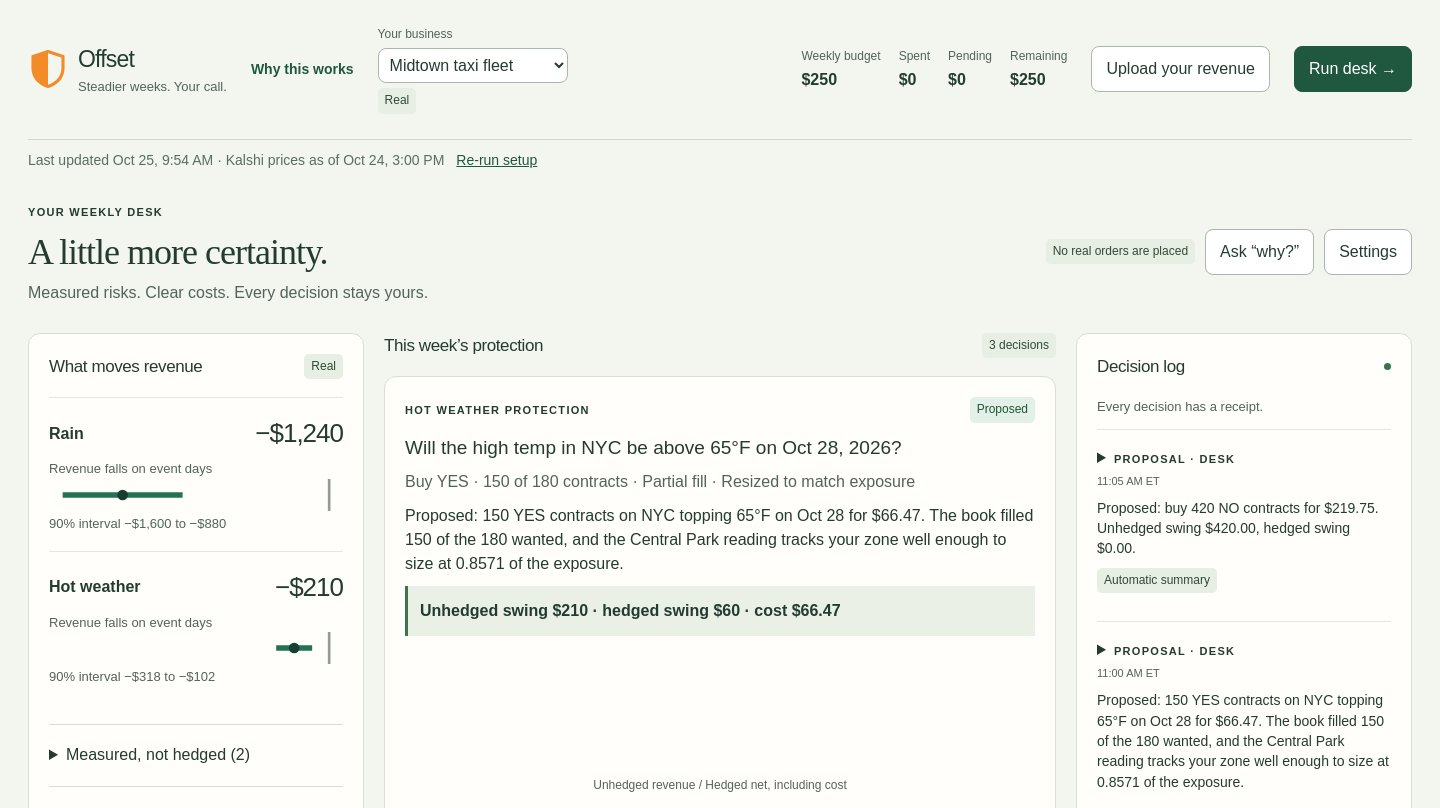
Test: first-run setup wizard › opens straight to the dashboard once set up, and Re-run setup resets it
Check: the text "Step 1 of 5" is not shown
Click the button "Re-run setup".
click(497, 160)  # box [456, 150, 537, 171]
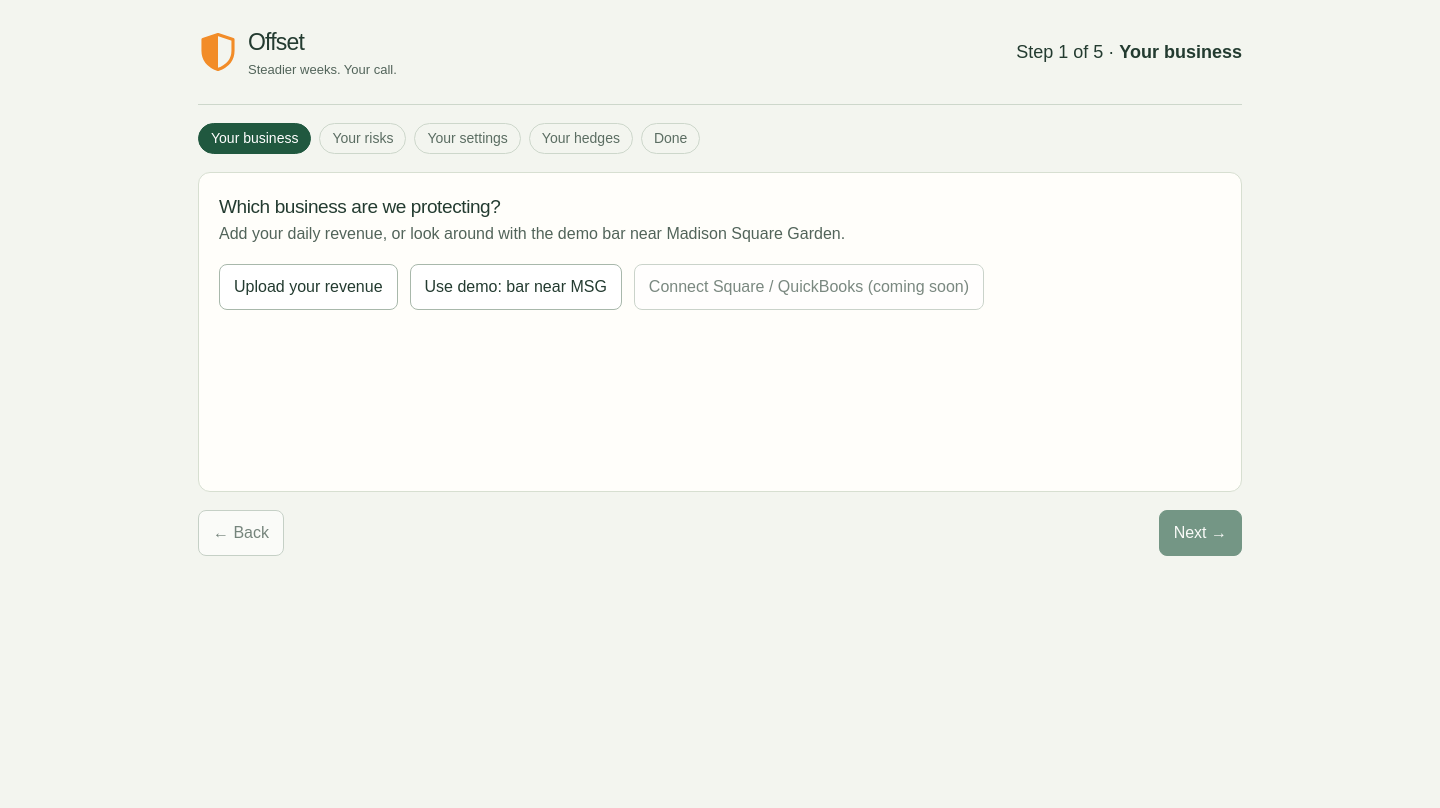
Check: the text "Step 1 of 5 · Your business" is shown, box [1016, 38, 1242, 66]
